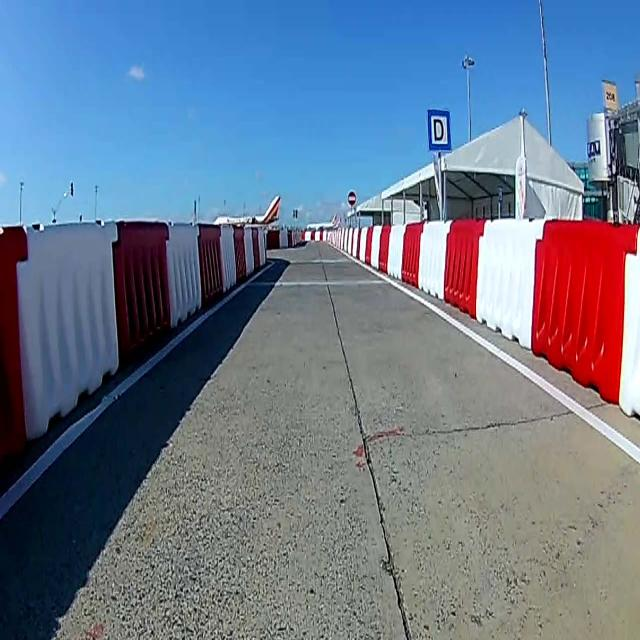durak: (427, 109, 451, 151)
girisyok: (347, 189, 357, 207)
